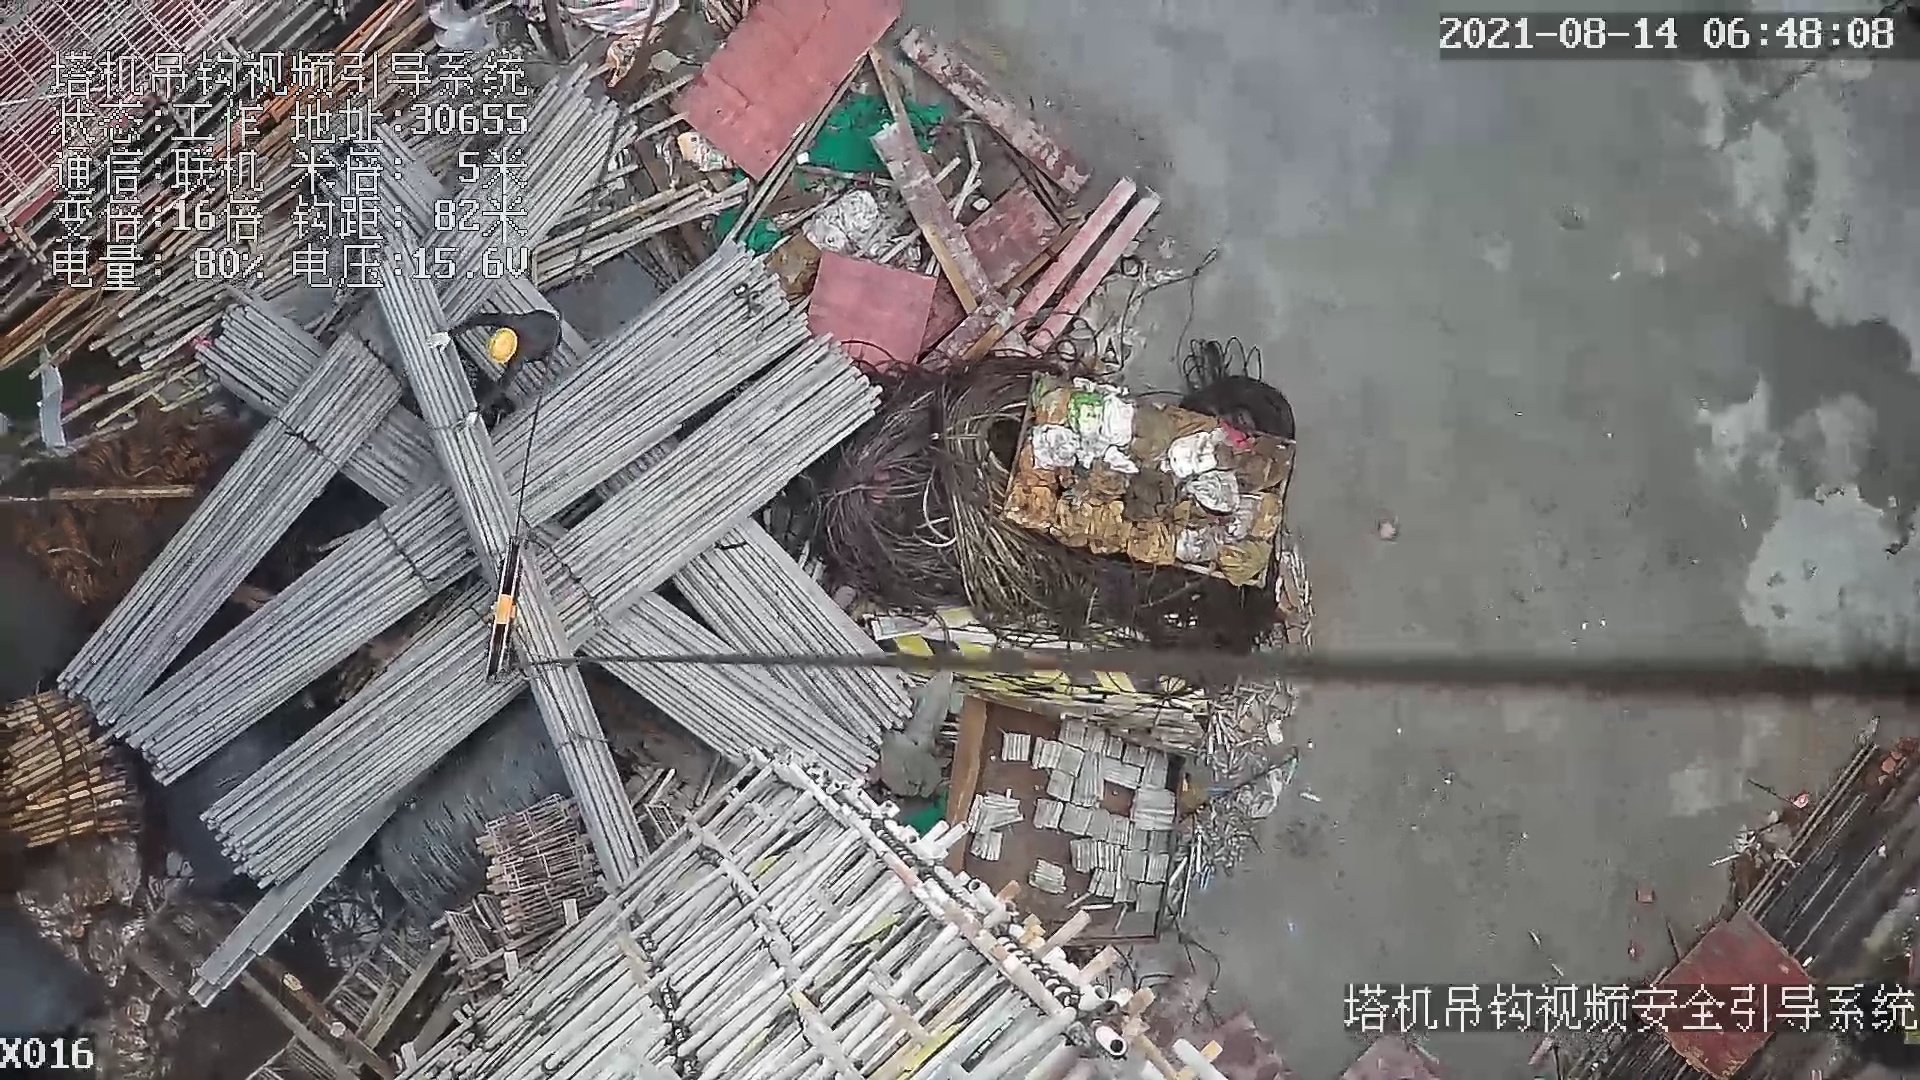board: (671, 4, 910, 179)
helmet: (488, 327, 517, 361)
hook: (477, 536, 519, 685)
person: (429, 304, 565, 427)
scaffold: (1, 689, 152, 839)
